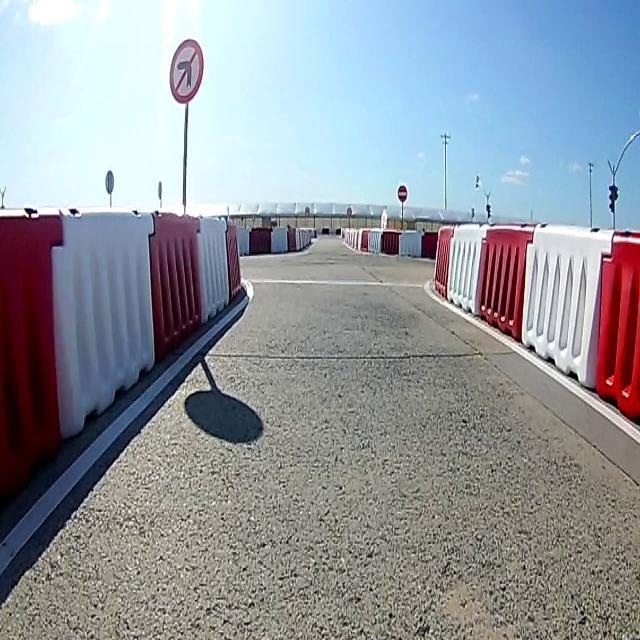girisyok: (398, 184, 408, 203)
soladonulmez: (169, 38, 203, 104)
